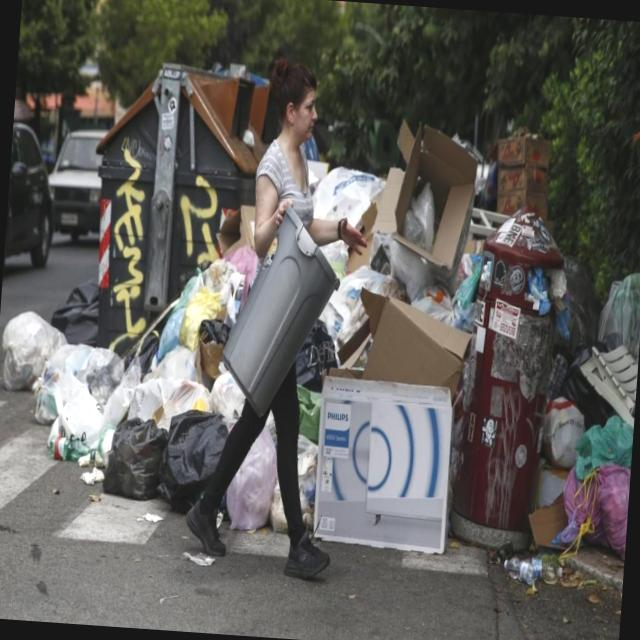garbage: (350, 136, 640, 575), (0, 115, 237, 488)
